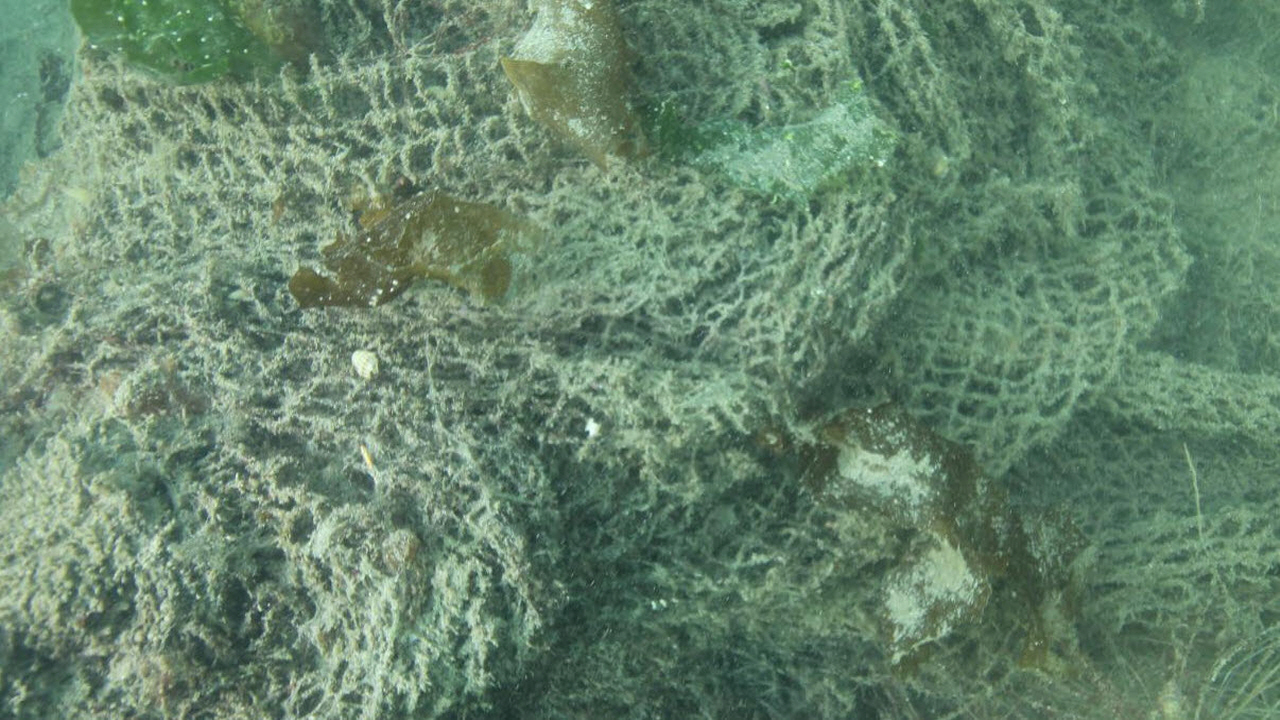fish net: (65, 0, 1280, 720)
